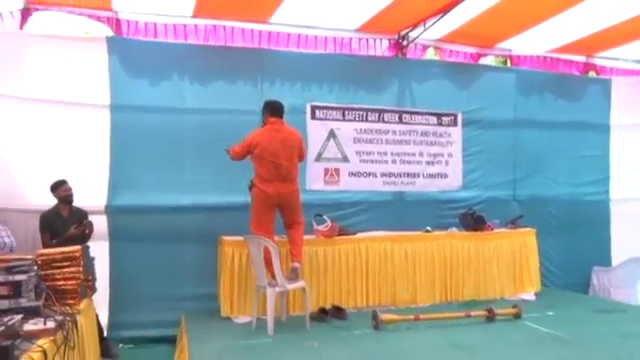helmet_off: (49, 178, 74, 208), (259, 97, 287, 122)
person: (225, 97, 311, 283), (38, 179, 96, 246)
